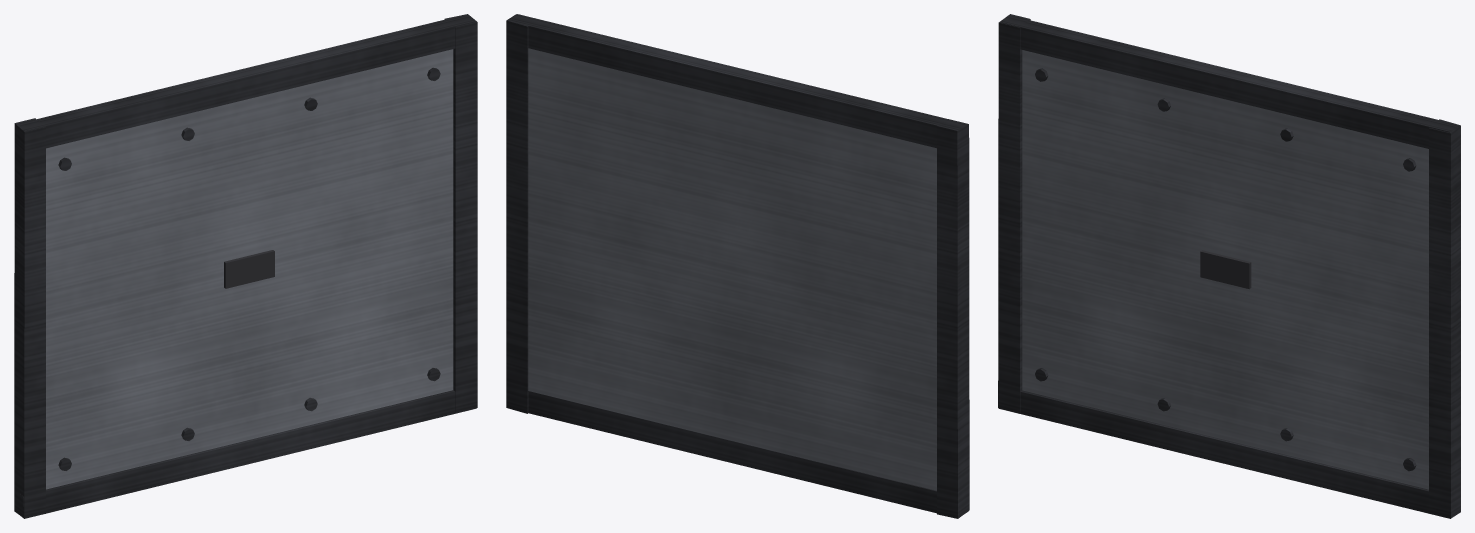
The model's file is NicheCover.fbx.
The picture shows the model from 3 angles, left to right: view 1: azimuth 30°, elevation 25°; view 2: azimuth 150°, elevation 25°; view 3: azimuth 330°, elevation 25°; orthographic projection.
Visible parts, largest first — view 1: NicheCover; view 2: NicheCover; view 3: NicheCover.
Boxes of the visible parts, box(x1,y1,x2,y2) form: NicheCover: box(14, 14, 477, 518); NicheCover: box(506, 14, 969, 518); NicheCover: box(998, 14, 1460, 518).
Size of the model in its own units: 1.11 by 0.9064 by 0.046.
Materials: 3 (2 with a texture image).
